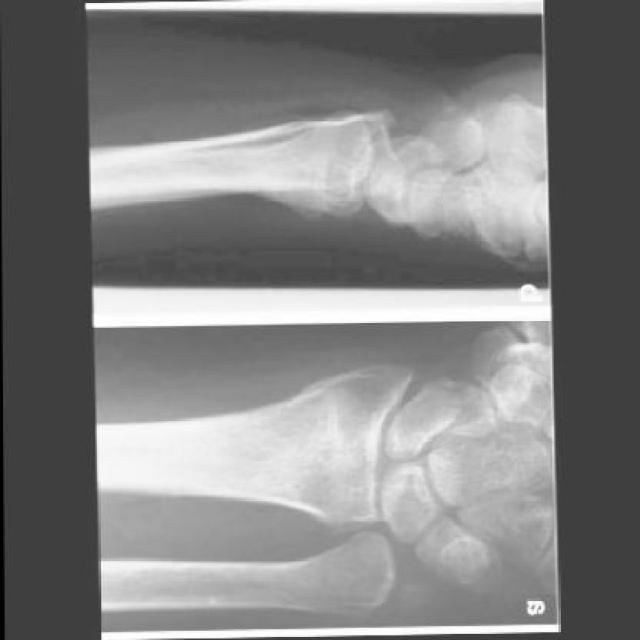Fracture: (290, 379, 346, 524), (283, 119, 335, 222), (394, 579, 436, 613)
